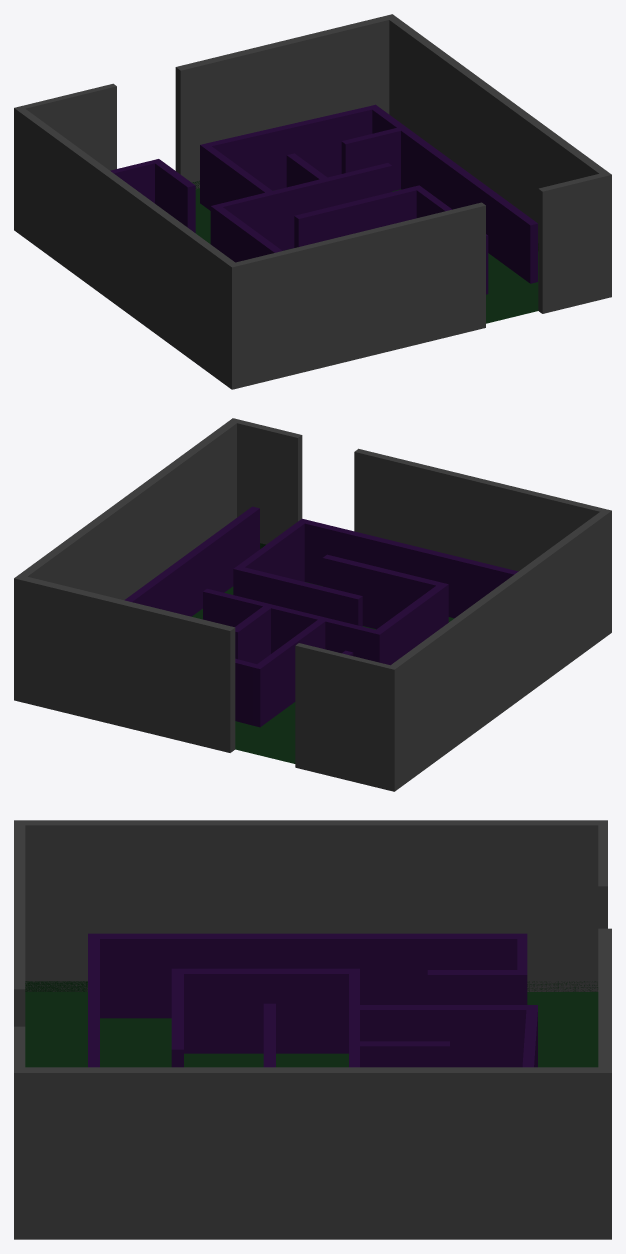
Rendered from Labirent2.fbx.
3 views of the same model, one above another, from view 1: azimuth 30°, elevation 25°; view 2: azimuth 150°, elevation 25°; view 3: azimuth 270°, elevation 25° (orthographic). The views are drawn at different scales.
Visible parts, largest first — view 1: Cube.001, Cube.002, Cube; view 2: Cube.001, Cube.002, Cube; view 3: Cube.001, Cube.002, Cube.
Boxes of the visible parts, x1=… form: Cube.001: x1=14, y1=14, x2=611, y2=389; Cube.002: x1=110, y1=104, x2=537, y2=294; Cube: x1=192, y1=180, x2=538, y2=323; Cube.001: x1=14, y1=418, x2=611, y2=791; Cube.002: x1=124, y1=506, x2=518, y2=727; Cube: x1=192, y1=543, x2=453, y2=763; Cube.001: x1=14, y1=820, x2=611, y2=1239; Cube.002: x1=88, y1=933, x2=537, y2=1067; Cube: x1=25, y1=981, x2=598, y2=1067.
Size of the model in its own units: 1593 by 490 by 1593.
